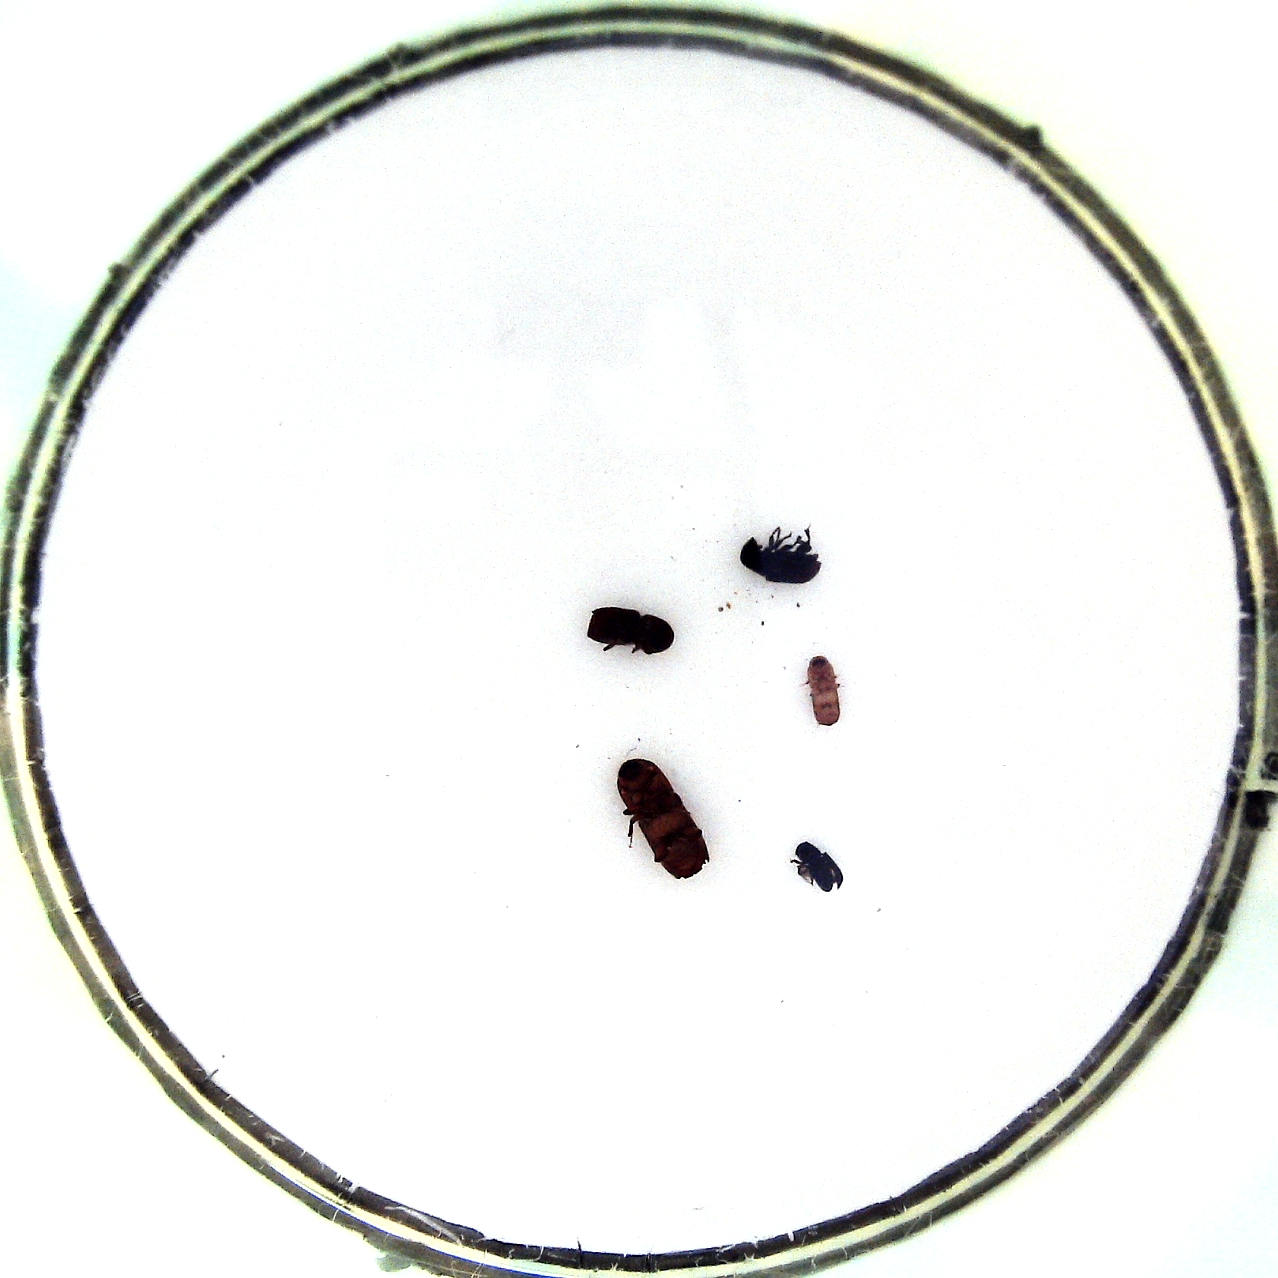Boerner: (614, 756, 710, 882)
Linnaeus: (584, 606, 676, 662)
acuminatus: (802, 654, 851, 734)
armandi: (738, 524, 830, 590)
coleoptera: (792, 841, 844, 898)
